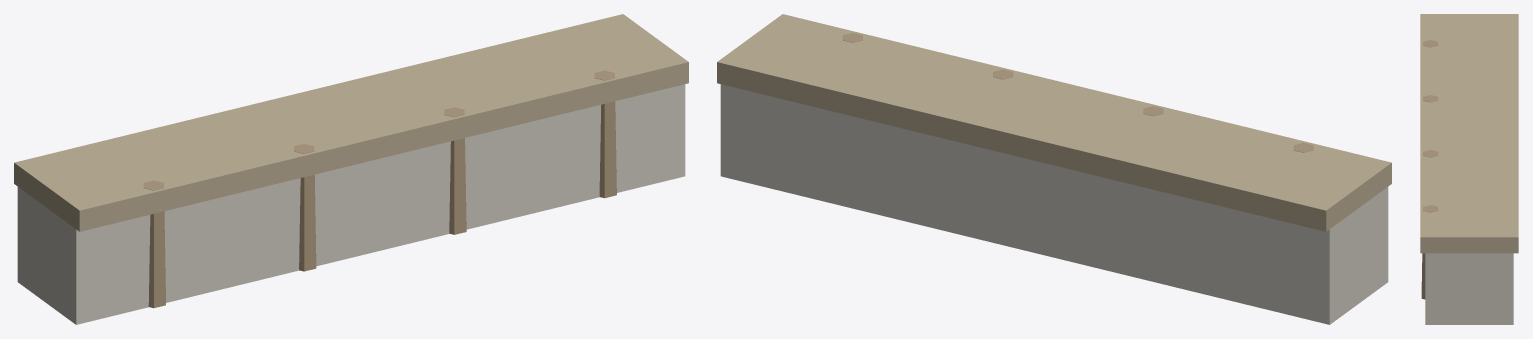
Rendered from trench-line-1917-fire-step-1a2f9ea1__24045.glb.
3 renders of one model, left to right at view 1: azimuth 30°, elevation 25°; view 2: azimuth 150°, elevation 25°; view 3: azimuth 270°, elevation 25°, orthographic. The views are drawn at different scales.
Visible parts, largest first — view 1: fire-step; view 2: fire-step; view 3: fire-step.
Part boxes in pixels (box(x1,y1,x2,y2)): fire-step: box(14, 14, 688, 324); fire-step: box(717, 14, 1391, 324); fire-step: box(1420, 14, 1518, 324).
Size of the model in its own units: 3 by 0.5512 by 0.56.
